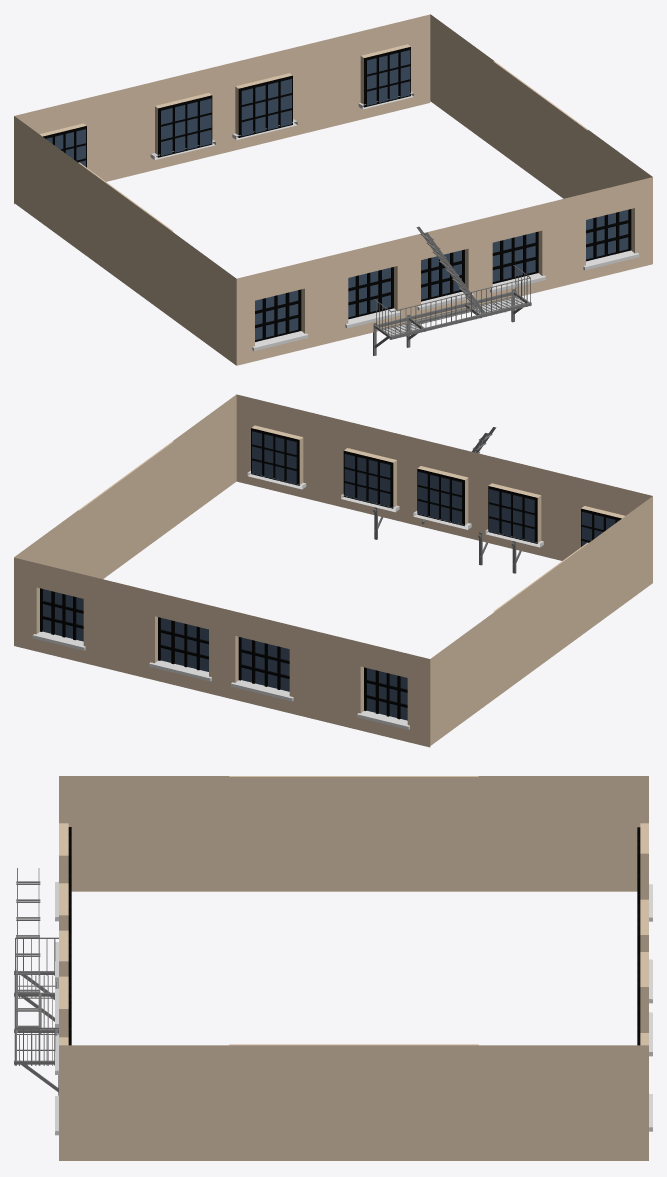
Rendered from Apt5_Floor.fbx.
The picture shows the model from 3 angles, top to bottom: view 1: azimuth 30°, elevation 25°; view 2: azimuth 150°, elevation 25°; view 3: azimuth 270°, elevation 25°; orthographic projection. The views are drawn at different scales.
Visible parts, largest first — view 1: Apt5_Floor_Main, Apt5_Floor_Windows, Apt5_Floor_Frame, Apt5_Floor_Rails, Apt5_Floor_White, Apt5_Floor_Ladder; view 2: Apt5_Floor_Main, Apt5_Floor_Windows, Apt5_Floor_Frame, Apt5_Floor_White, Apt5_Floor_Rails; view 3: Apt5_Floor_Main, Apt5_Floor_Rails, Apt5_Floor_Frame, Apt5_Floor_White, Apt5_Floor_Ladder.
Boxes of the visible parts, <box> form: Apt5_Floor_Main: <box>14,14,652,365</box>; Apt5_Floor_Windows: <box>46,50,628,339</box>; Apt5_Floor_Frame: <box>43,47,631,341</box>; Apt5_Floor_Rails: <box>373,265,531,355</box>; Apt5_Floor_White: <box>150,91,639,350</box>; Apt5_Floor_Ladder: <box>416,226,484,313</box>; Apt5_Floor_Main: <box>14,394,652,747</box>; Apt5_Floor_Windows: <box>43,431,618,720</box>; Apt5_Floor_Frame: <box>40,428,621,719</box>; Apt5_Floor_White: <box>32,471,543,729</box>; Apt5_Floor_Rails: <box>373,507,521,573</box>; Apt5_Floor_Main: <box>59,776,648,1160</box>; Apt5_Floor_Rails: <box>14,937,58,1095</box>; Apt5_Floor_Frame: <box>68,827,640,1045</box>; Apt5_Floor_White: <box>55,881,652,1135</box>; Apt5_Floor_Ladder: <box>16,868,40,1032</box>.
Size of the model in its own units: 1537 by 443 by 1542.
